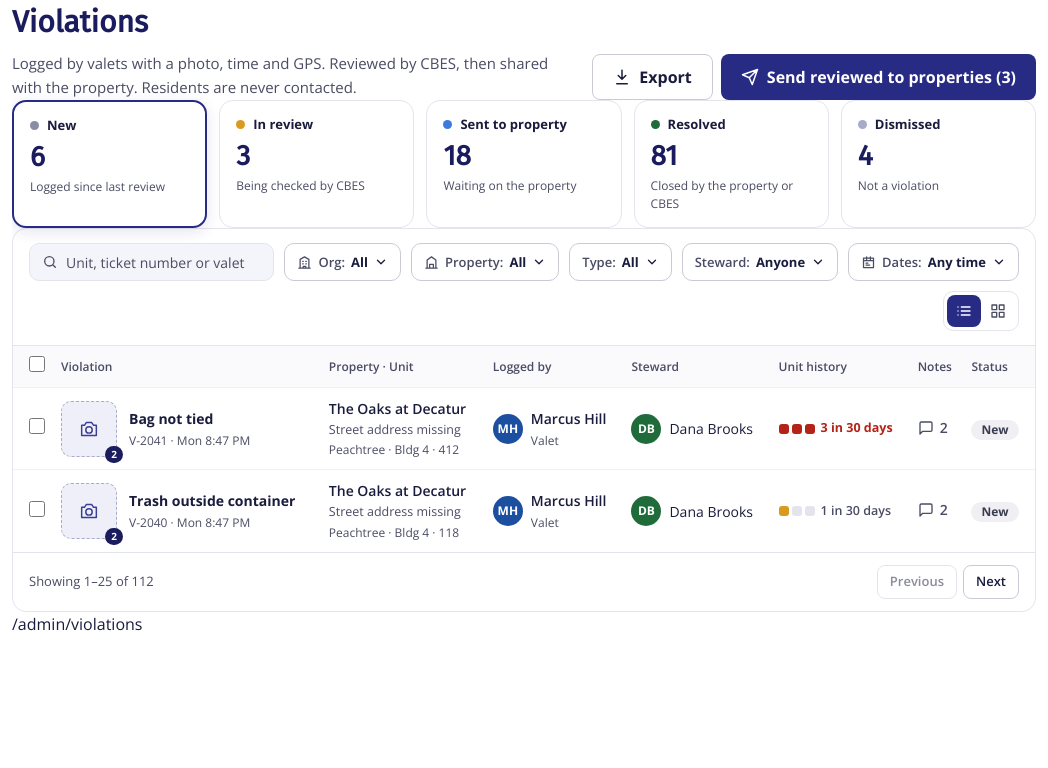
Test case: ViolationsPage › sends everything in review to the properties
This screenshot has width=1048, height=768.
Click the button "Send reviewed to properties (3)" at (878, 77), box [721,54,1036,100]
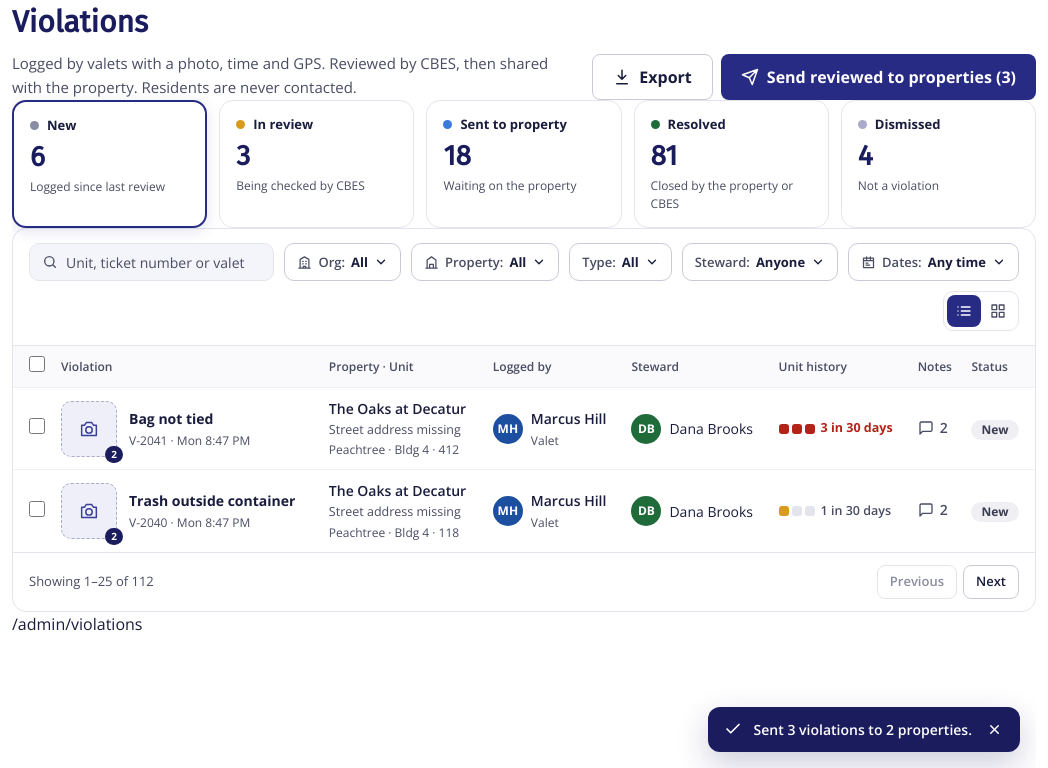
Result: the text "Sent 3 violations to 2 properties." is shown at [754,719,972,740]
